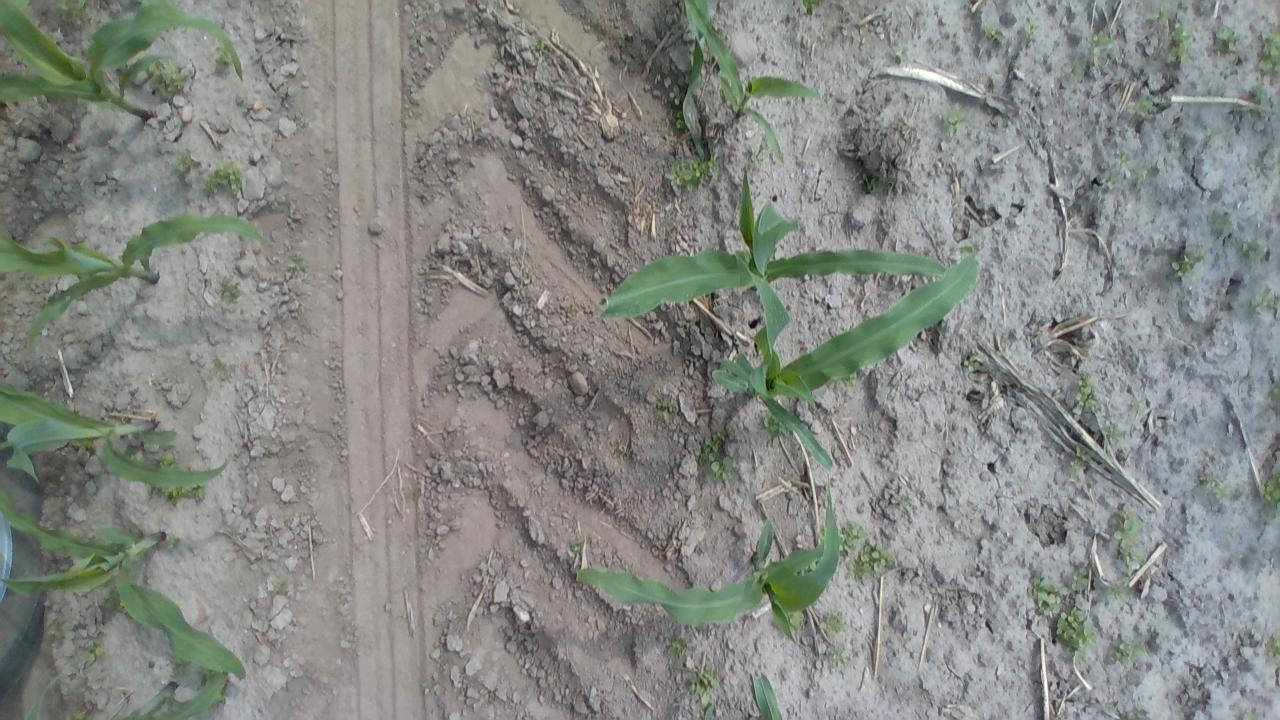Maize: (710, 217, 976, 474), (592, 168, 964, 321), (0, 481, 251, 686), (570, 488, 839, 642), (2, 210, 273, 344), (0, 0, 250, 122), (672, 2, 826, 169), (0, 385, 238, 490), (70, 668, 231, 718), (747, 672, 786, 720)
Weeds: (1031, 575, 1099, 663), (694, 430, 734, 485), (848, 542, 898, 581), (1111, 509, 1144, 568), (200, 158, 243, 197), (145, 61, 190, 98), (686, 664, 718, 716), (666, 156, 712, 190), (1111, 632, 1150, 670), (1164, 15, 1193, 65), (840, 522, 876, 562), (1104, 154, 1142, 190), (1194, 470, 1230, 504), (1171, 246, 1204, 282), (941, 105, 974, 138), (1256, 27, 1278, 76), (56, 1, 92, 26), (217, 272, 240, 311), (1092, 29, 1117, 64), (1073, 375, 1098, 410), (168, 150, 200, 176), (1258, 470, 1276, 516), (821, 609, 850, 636), (840, 524, 866, 554), (1249, 288, 1275, 318), (1210, 209, 1236, 238), (164, 485, 207, 502), (1240, 236, 1266, 264), (1069, 444, 1093, 474), (1128, 96, 1155, 122), (826, 643, 852, 670), (1214, 27, 1242, 52), (283, 254, 312, 278), (1123, 160, 1149, 186), (84, 638, 108, 666), (654, 396, 678, 422), (103, 589, 126, 615), (210, 42, 230, 71), (1112, 704, 1150, 719), (1066, 59, 1088, 82), (1109, 580, 1130, 604), (208, 358, 232, 379), (863, 172, 885, 194), (1152, 6, 1176, 26), (666, 636, 687, 658), (962, 352, 984, 372), (982, 20, 1002, 42), (1070, 566, 1089, 589), (171, 660, 192, 680), (890, 41, 909, 63), (1021, 17, 1039, 40), (214, 678, 228, 704), (1104, 424, 1123, 443), (268, 577, 288, 595), (673, 112, 690, 133), (788, 609, 804, 631), (422, 677, 440, 696), (569, 538, 588, 556), (616, 439, 634, 457), (164, 532, 182, 550), (668, 85, 682, 106), (800, 0, 821, 14), (532, 36, 550, 52), (1130, 398, 1146, 415), (804, 559, 820, 573), (260, 530, 274, 546), (1205, 126, 1222, 139), (1244, 709, 1264, 719), (1050, 711, 1066, 719)
